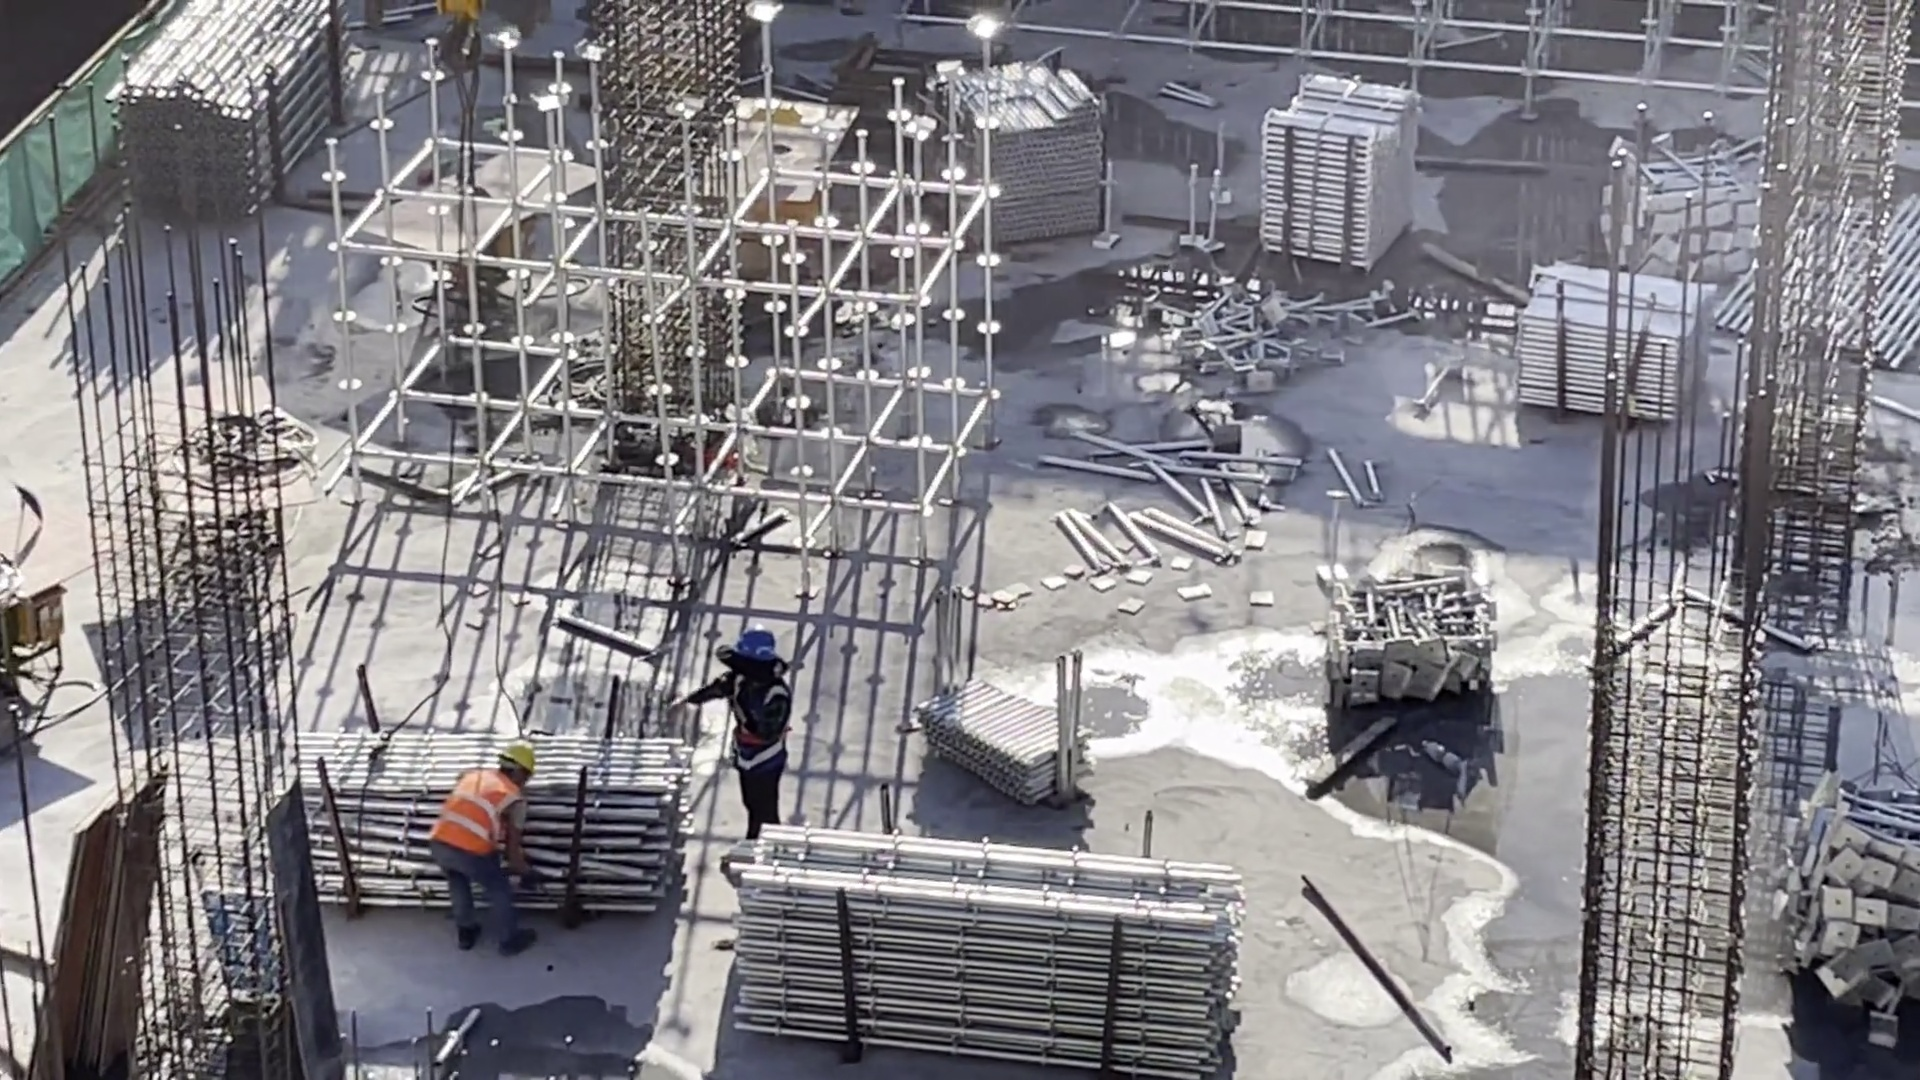board: (40, 770, 169, 1071)
cutter: (371, 142, 610, 300), (677, 94, 878, 243), (130, 412, 341, 553), (1, 463, 115, 661)
helmet: (495, 737, 545, 783), (741, 630, 780, 676)
person: (677, 627, 812, 906), (429, 732, 559, 956)
scaffold: (725, 817, 1263, 1078), (272, 727, 704, 921), (133, 1, 334, 235), (919, 61, 1115, 264), (1768, 750, 1920, 986), (1268, 85, 1442, 259), (1509, 281, 1728, 412), (1600, 132, 1776, 293), (915, 664, 1099, 805), (1334, 562, 1511, 693), (1183, 294, 1350, 383)
vest: (422, 768, 515, 860), (714, 670, 790, 774)
